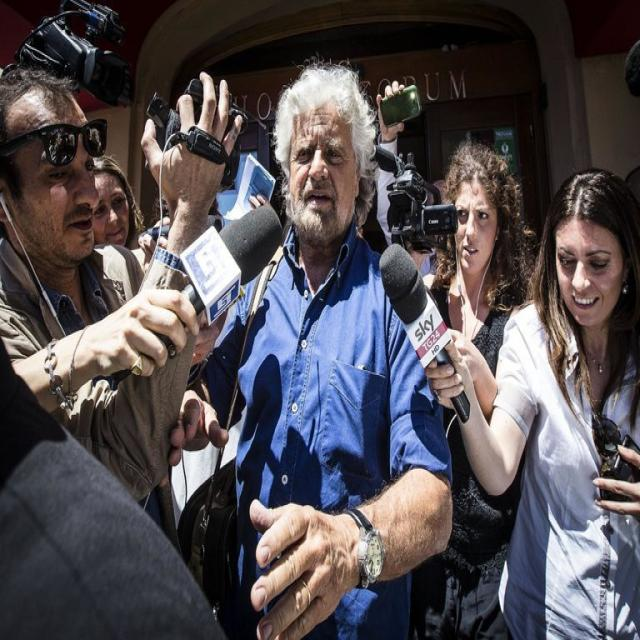body: (155, 55, 471, 639), (0, 59, 245, 508), (424, 160, 640, 640), (0, 321, 225, 639), (419, 138, 522, 638), (367, 136, 461, 302), (373, 78, 449, 248), (80, 142, 153, 270), (212, 146, 286, 272)
